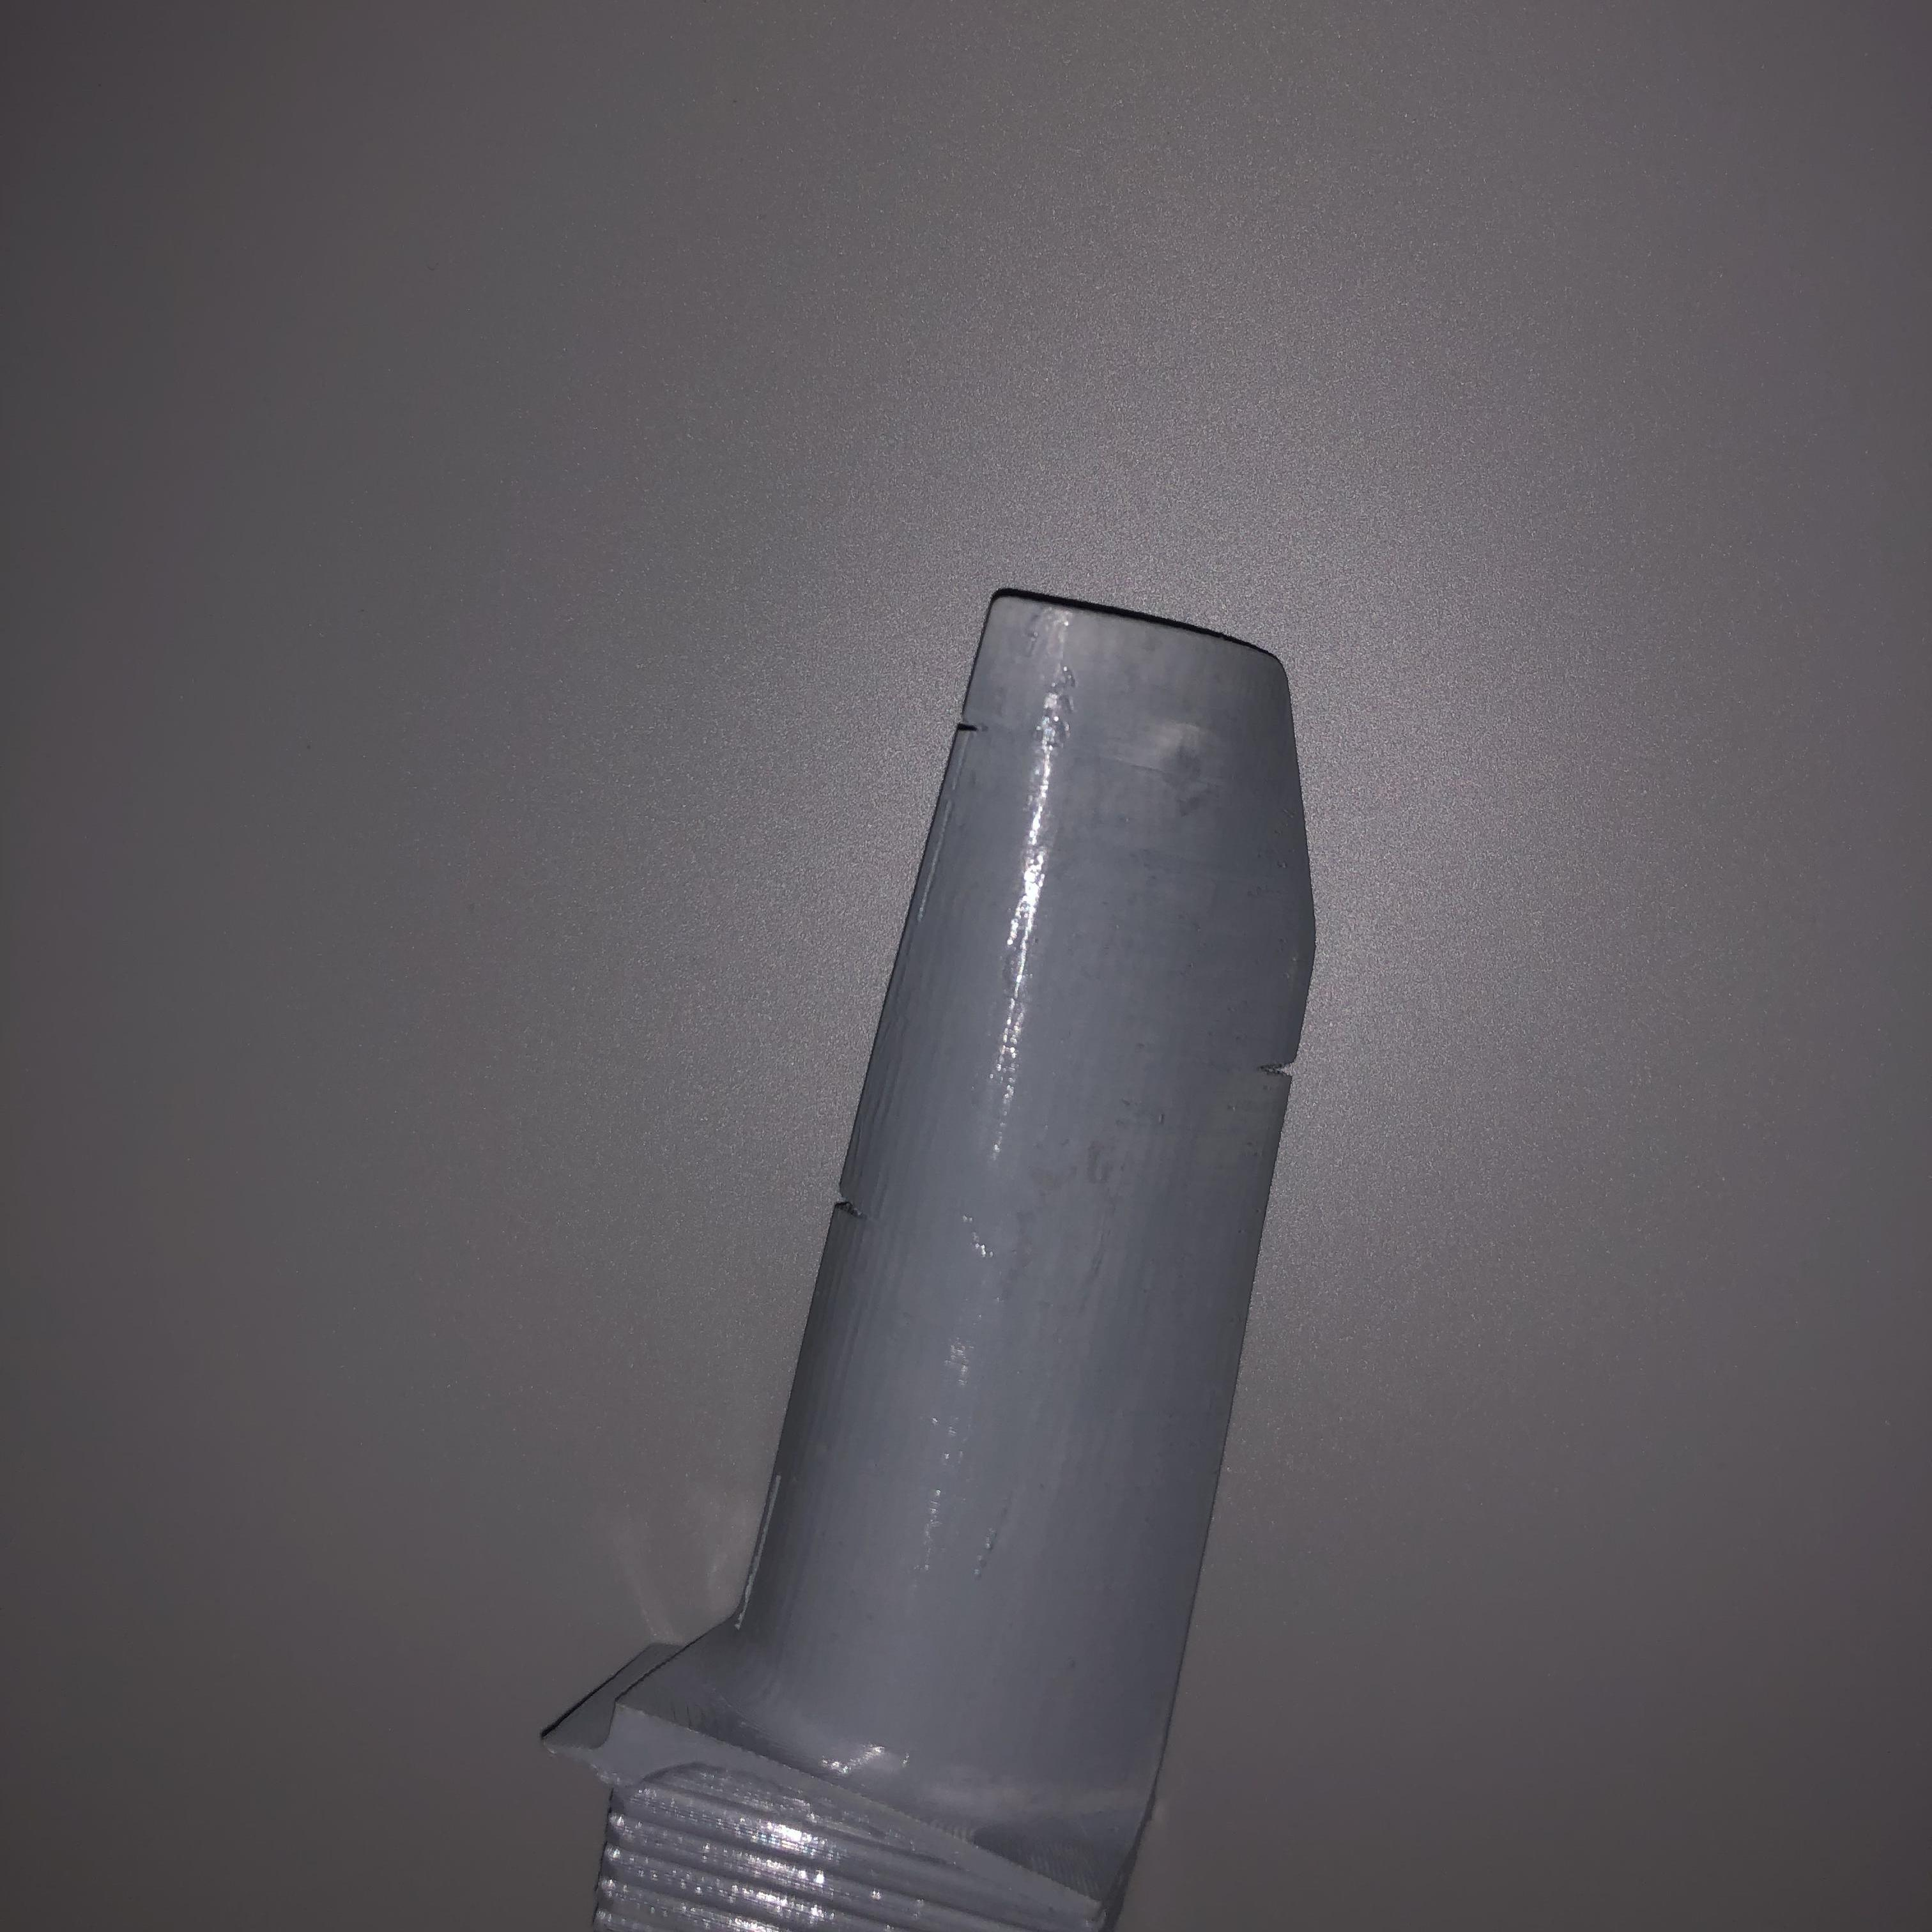groove: (826, 1189, 874, 1226), (961, 708, 1001, 745), (1258, 1049, 1300, 1083)
